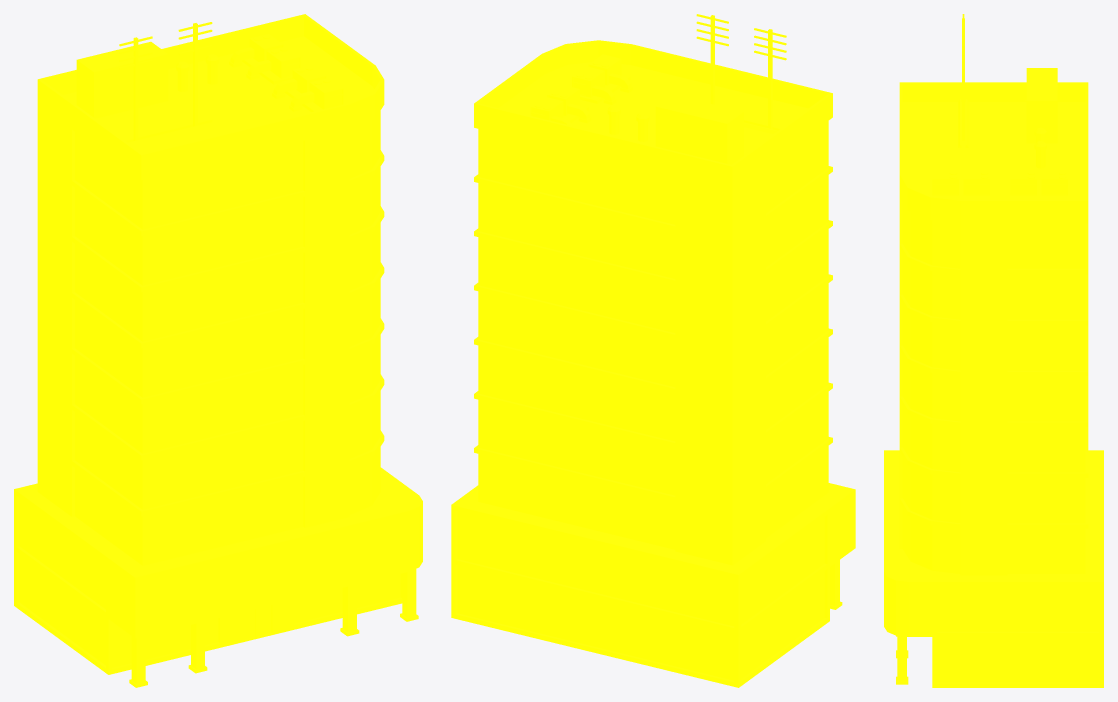
Rendered from building-office-rounded.glb.
The picture shows the model from 3 angles, left to right: view 1: azimuth 30°, elevation 25°; view 2: azimuth 150°, elevation 25°; view 3: azimuth 270°, elevation 25°; orthographic projection. The views are drawn at different scales.
Parts seen in each view (by area): view 1: building-office-rounded; view 2: building-office-rounded; view 3: building-office-rounded.
Part boxes in pixels (bbox=[...]): building-office-rounded: bbox=[14, 14, 422, 687]; building-office-rounded: bbox=[451, 14, 855, 687]; building-office-rounded: bbox=[884, 14, 1103, 687].
Bounding box in the file's own units: 20 × 39.4 × 14.1.
1 material, 1 textured.
